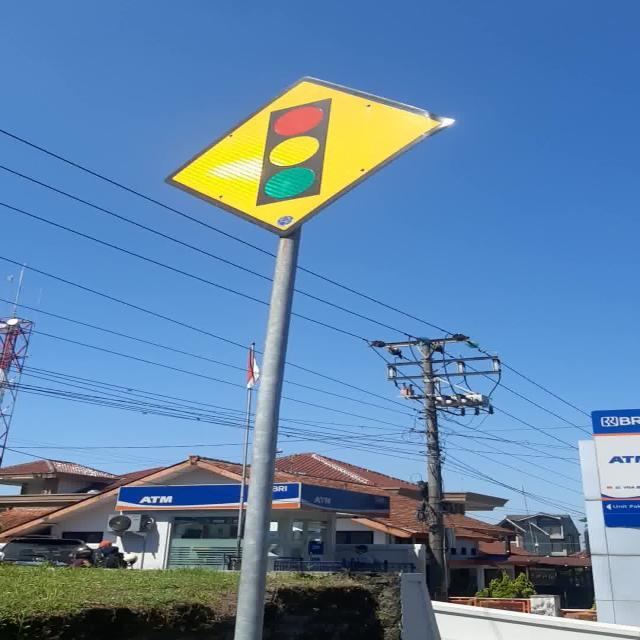Lampu Lalu Lintas: (164, 75, 456, 237)
